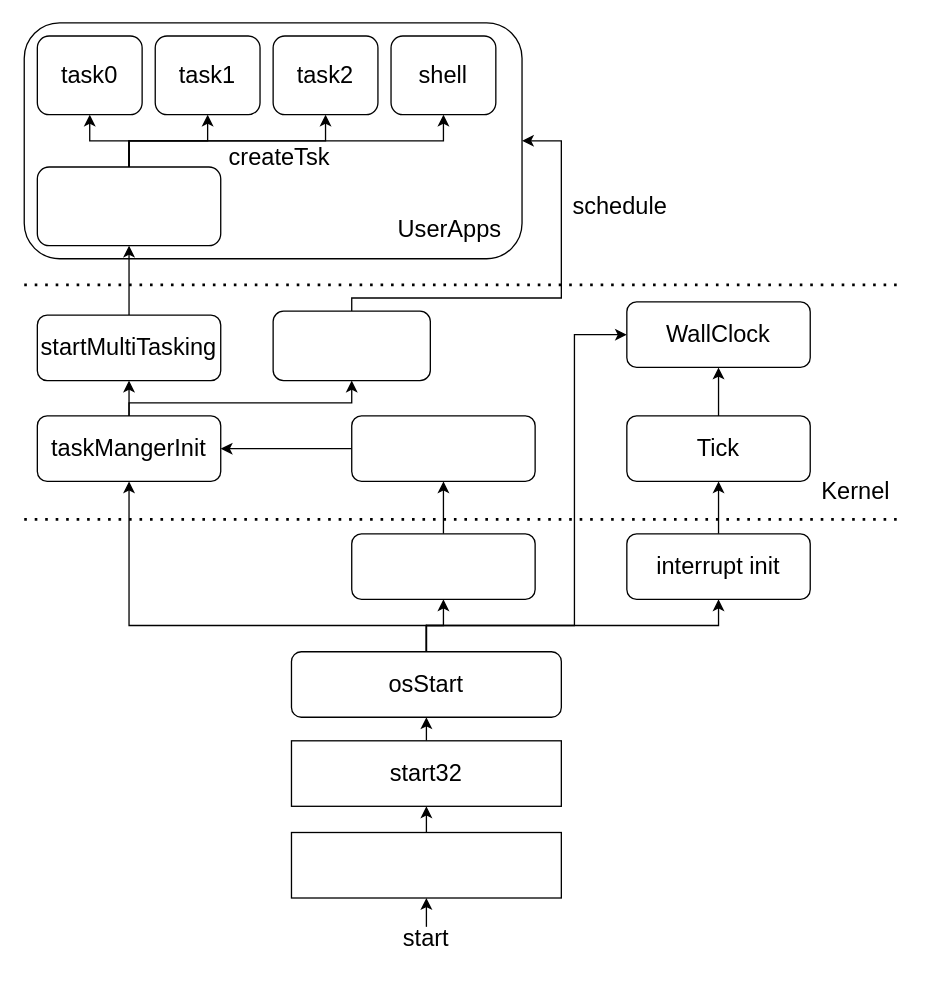
This 950x988 diagram has some shape labels left out. Each missing label, with the box of its shape:
initTask myMain: (36, 166, 221, 246)
memTest: (350, 533, 535, 599)
MultibootHeader: (290, 831, 561, 898)
pMemInit: (350, 415, 535, 481)
Scheduler: (272, 310, 430, 381)
